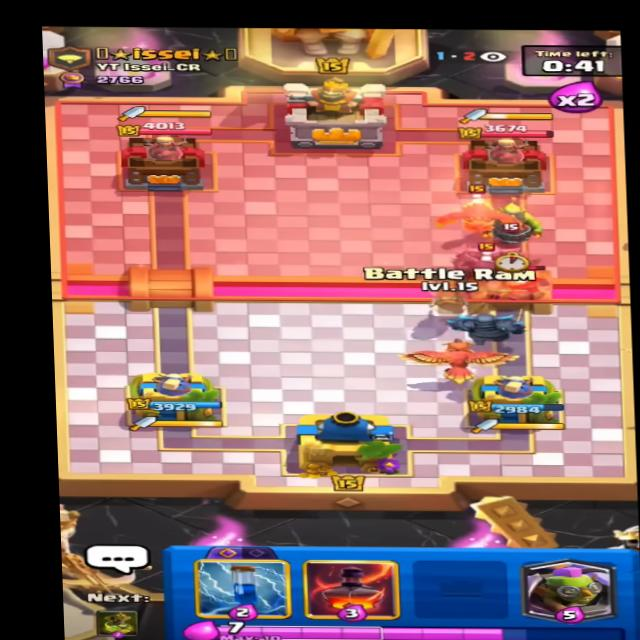goblin-demolisher: (481, 192, 543, 242)
knight: (492, 262, 561, 301)
pekka: (440, 235, 536, 280)
phoenix: (430, 186, 524, 233)
